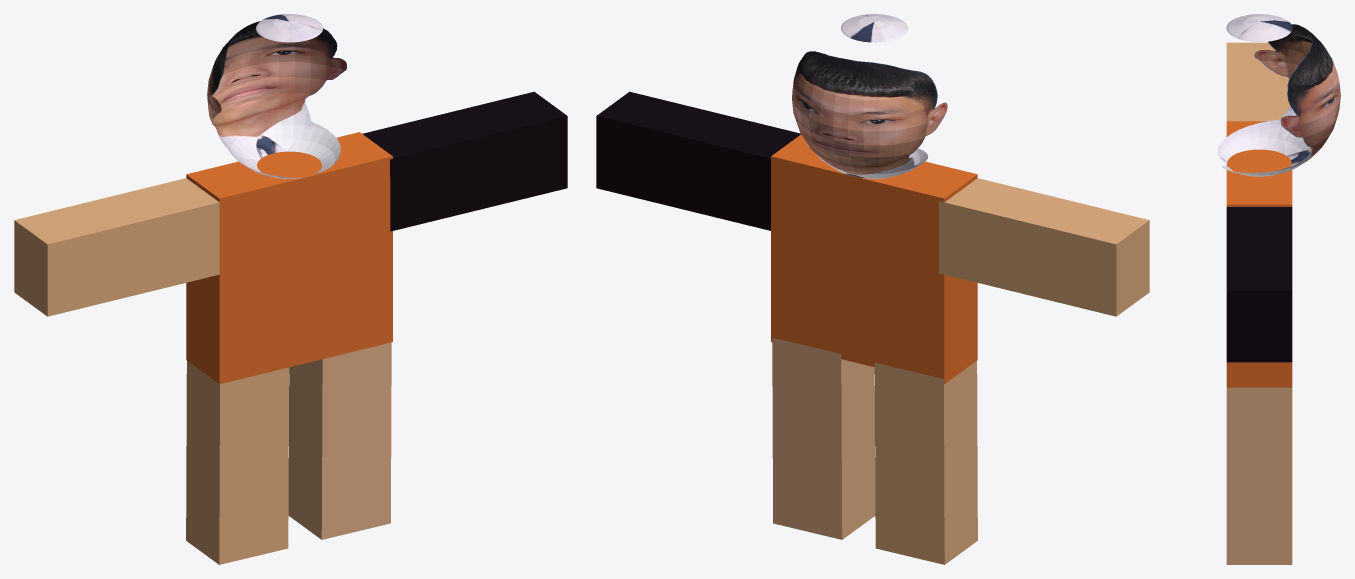
Rendered from Koykung01.fbx.
The picture shows the model from 3 angles, left to right: view 1: azimuth 30°, elevation 25°; view 2: azimuth 150°, elevation 25°; view 3: azimuth 270°, elevation 25°; orthographic projection.
Parts seen in each view (by area): view 1: Cube, Cube.001, Cube.004, Cube.003, Cube.002, Sphere; view 2: Cube, Cube.001, Cube.004, Cube.002, Cube.003, Sphere; view 3: Cube.002, Cube.003, Sphere, Cube, Cube.001.
Boxes of the visible parts, x1=… form: Cube: x1=186, y1=132, x2=392, y2=384; Cube.001: x1=14, y1=178, x2=219, y2=316; Cube.004: x1=186, y1=361, x2=289, y2=564; Cube.003: x1=362, y1=91, x2=567, y2=231; Cube.002: x1=288, y1=342, x2=391, y2=539; Sphere: x1=207, y1=14, x2=346, y2=178; Cube: x1=771, y1=134, x2=977, y2=384; Cube.001: x1=939, y1=178, x2=1149, y2=316; Cube.004: x1=874, y1=361, x2=977, y2=564; Cube.002: x1=772, y1=337, x2=875, y2=539; Cube.003: x1=596, y1=91, x2=800, y2=230; Sphere: x1=792, y1=14, x2=947, y2=178; Cube.002: x1=1226, y1=387, x2=1292, y2=564; Cube.003: x1=1226, y1=207, x2=1292, y2=362; Sphere: x1=1217, y1=14, x2=1340, y2=176; Cube: x1=1226, y1=121, x2=1292, y2=387; Cube.001: x1=1226, y1=42, x2=1290, y2=121.
Bounding box in the file's own units: 726 × 681 × 200.
6 materials, 1 textured.
